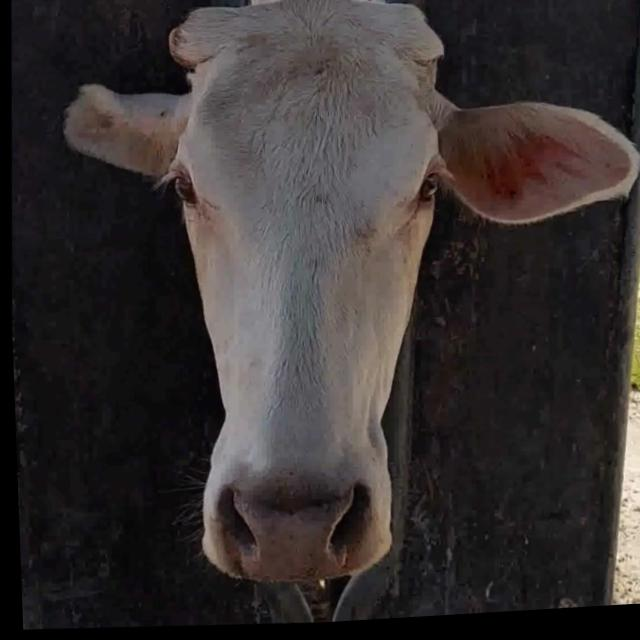cowFace: (152, 0, 462, 593)
